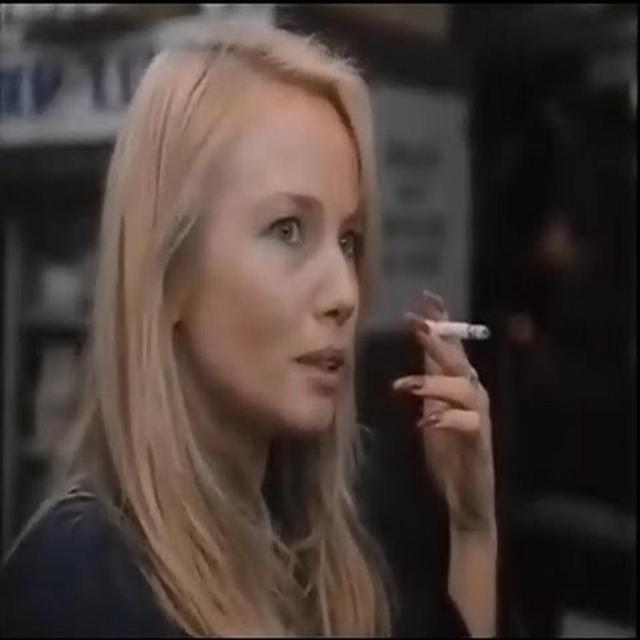smoking: (114, 23, 512, 555)
